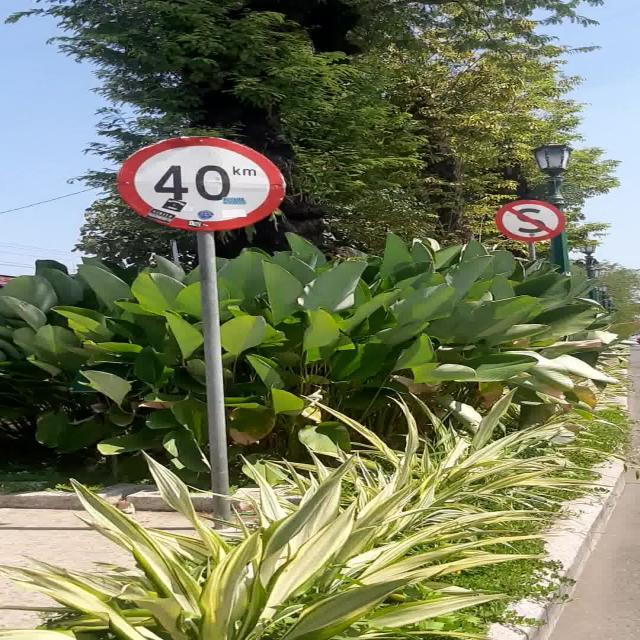Kecepatan Maks. 40 km: (117, 136, 287, 232)
